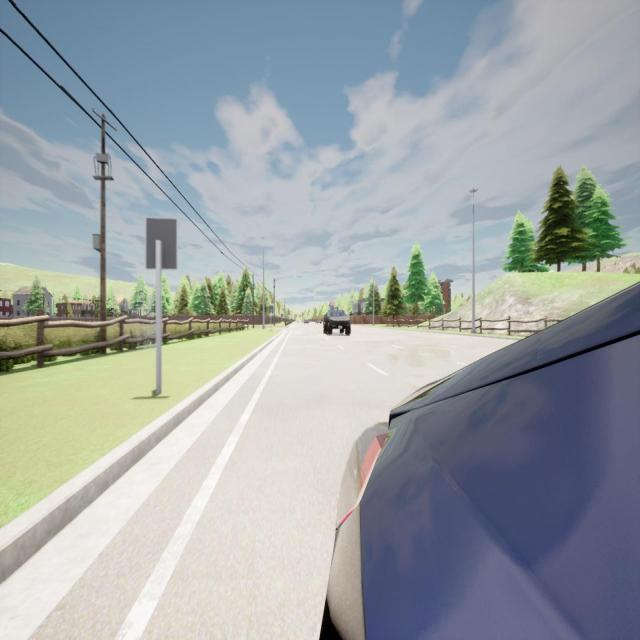Traffic_Signs: (144, 218, 177, 270)
Vehicle: (328, 283, 640, 637), (324, 310, 351, 336), (304, 319, 308, 324)
